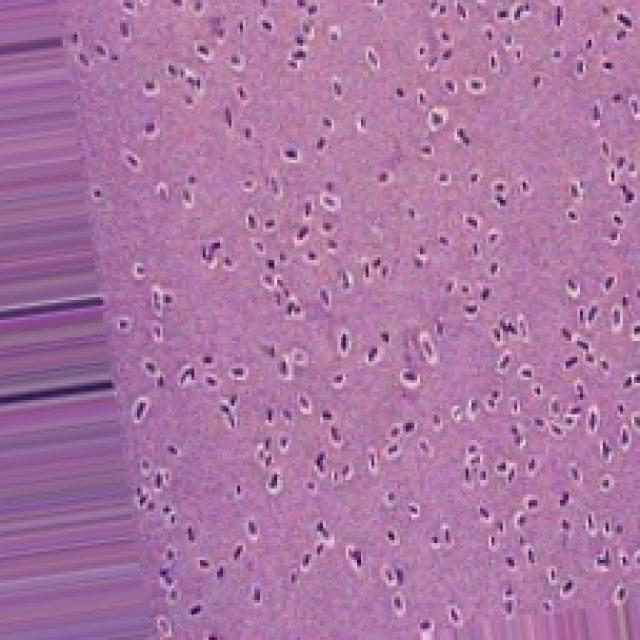Spherical_bacteria: (52, 0, 637, 637)
